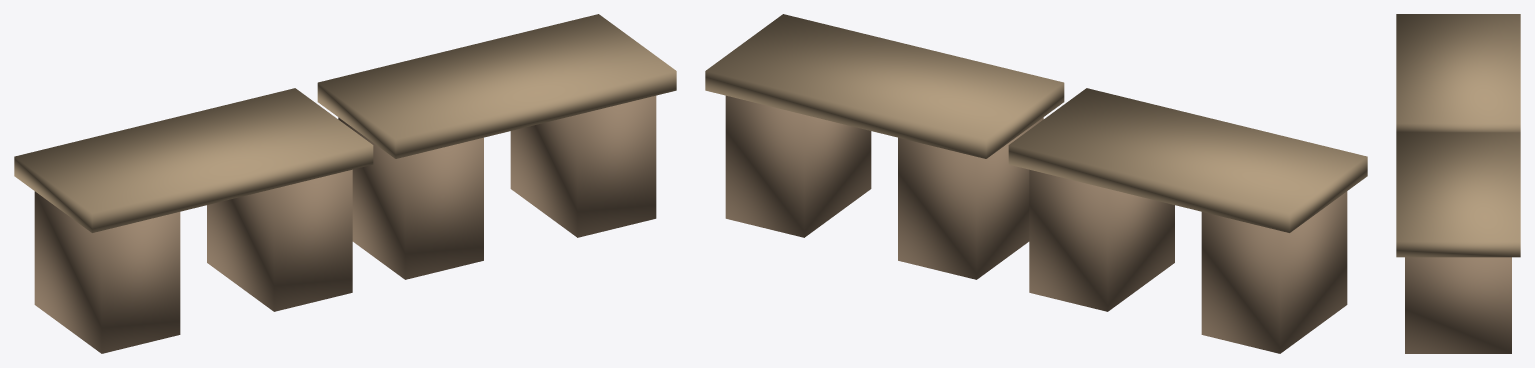
File: teacher_desk__cluster.glb
3 views of the same model, side by side, from view 1: azimuth 30°, elevation 25°; view 2: azimuth 150°, elevation 25°; view 3: azimuth 270°, elevation 25° (orthographic). The views are drawn at different scales.
Visible parts, largest first — view 1: world; view 2: world; view 3: world.
Boxes of the visible parts, x1,y1,x2,y2 form: world: (14,14,676,353); world: (705,14,1367,353); world: (1396,14,1520,353).
Bounding box in the file's own units: 3.12 × 0.755 × 0.72.
